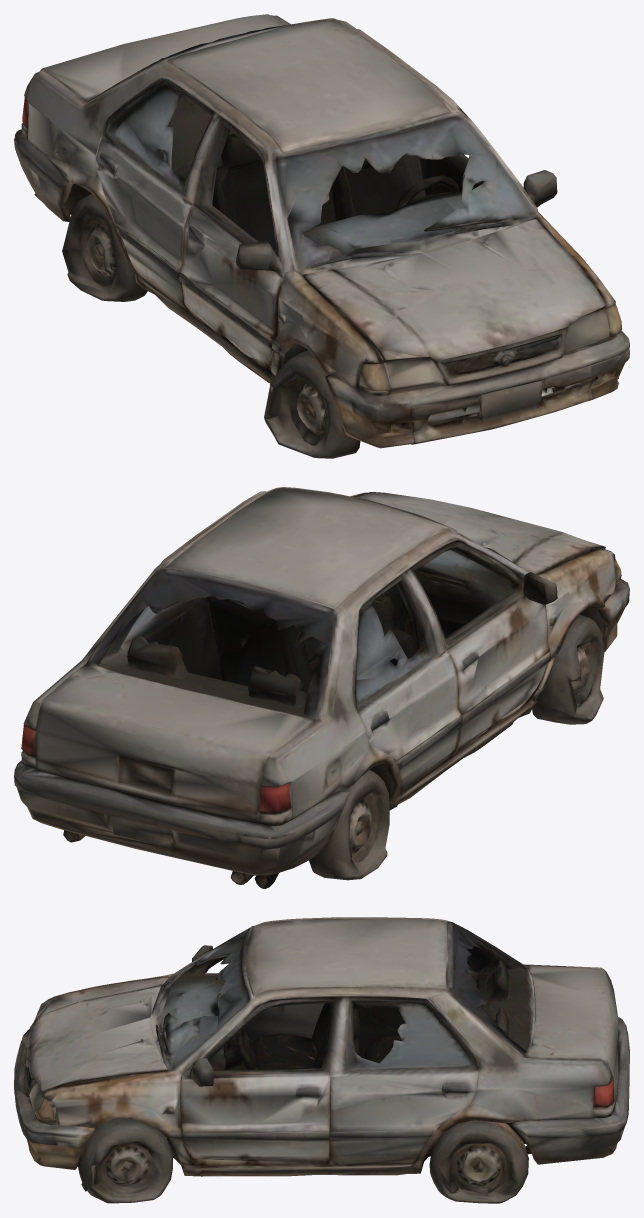
3 views of the same model, one above another, from view 1: azimuth 30°, elevation 25°; view 2: azimuth 150°, elevation 25°; view 3: azimuth 270°, elevation 25° (orthographic). The views are drawn at different scales.
Visible parts, largest first — view 1: node_0; view 2: node_0; view 3: node_0.
Boxes of the visible parts, left/top/right/bottom form: node_0: left=14, top=14, right=629, bottom=458; node_0: left=14, top=487, right=629, bottom=888; node_0: left=14, top=917, right=629, bottom=1203.
Bounding box in the file's own units: 0.5551 × 0.4065 × 1.14.
1 material, 1 textured.
